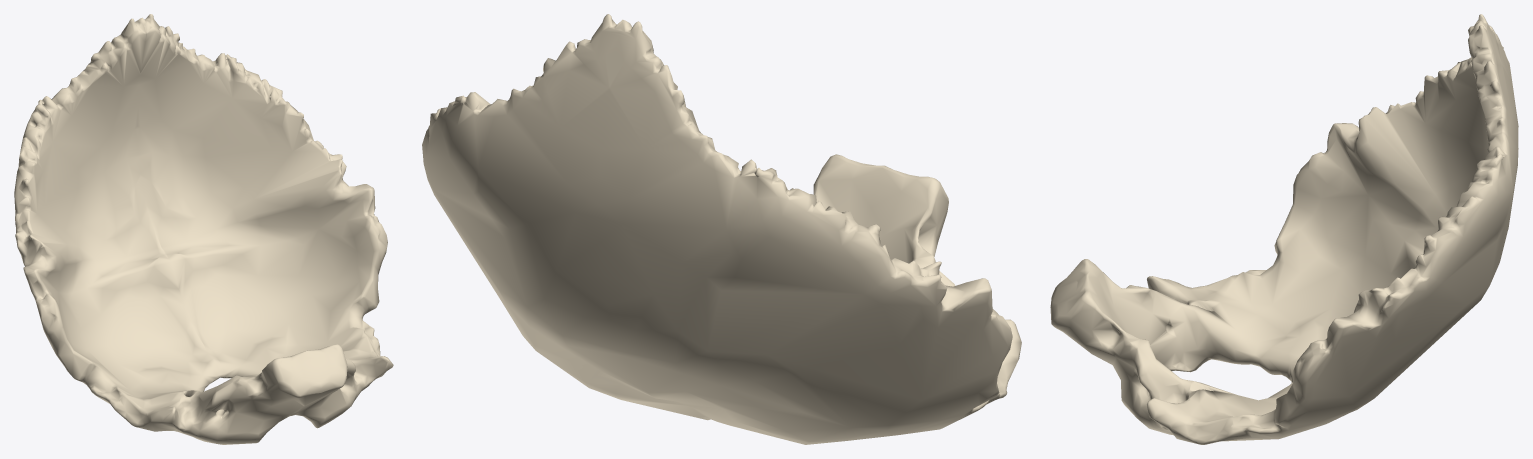
The model's file is occipital-bone.glb.
3 renders of one model, left to right at view 1: azimuth 30°, elevation 25°; view 2: azimuth 150°, elevation 25°; view 3: azimuth 270°, elevation 25°, orthographic. The views are drawn at different scales.
Parts seen in each view (by area): view 1: Occipital bone; view 2: Occipital bone; view 3: Occipital bone.
Part boxes in pixels (box(x1,y1,x2,y2)): Occipital bone: box(14, 14, 393, 444); Occipital bone: box(422, 14, 1021, 444); Occipital bone: box(1050, 14, 1518, 444).
Bounding box in the file's own units: 0.1193 × 0.1045 × 0.1159.
